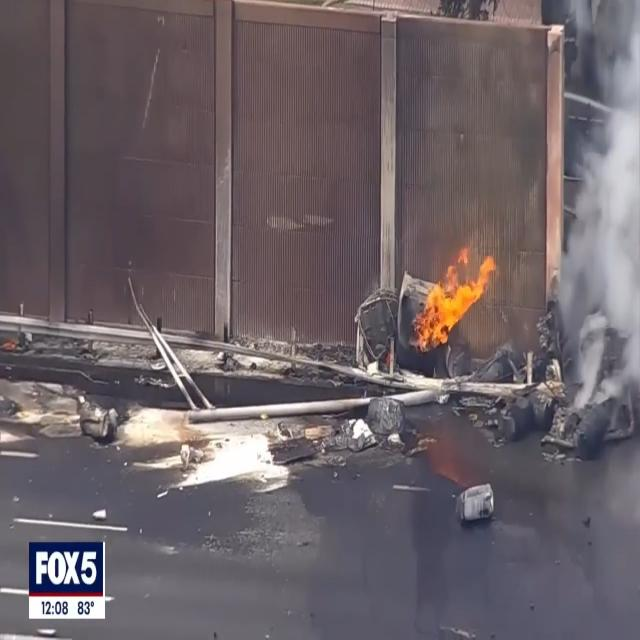fire: (413, 250, 497, 357)
